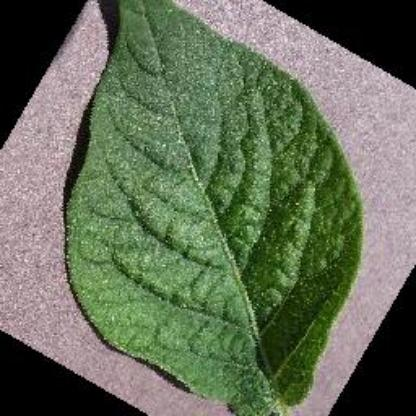Healthy-plant: (54, 0, 395, 416)
